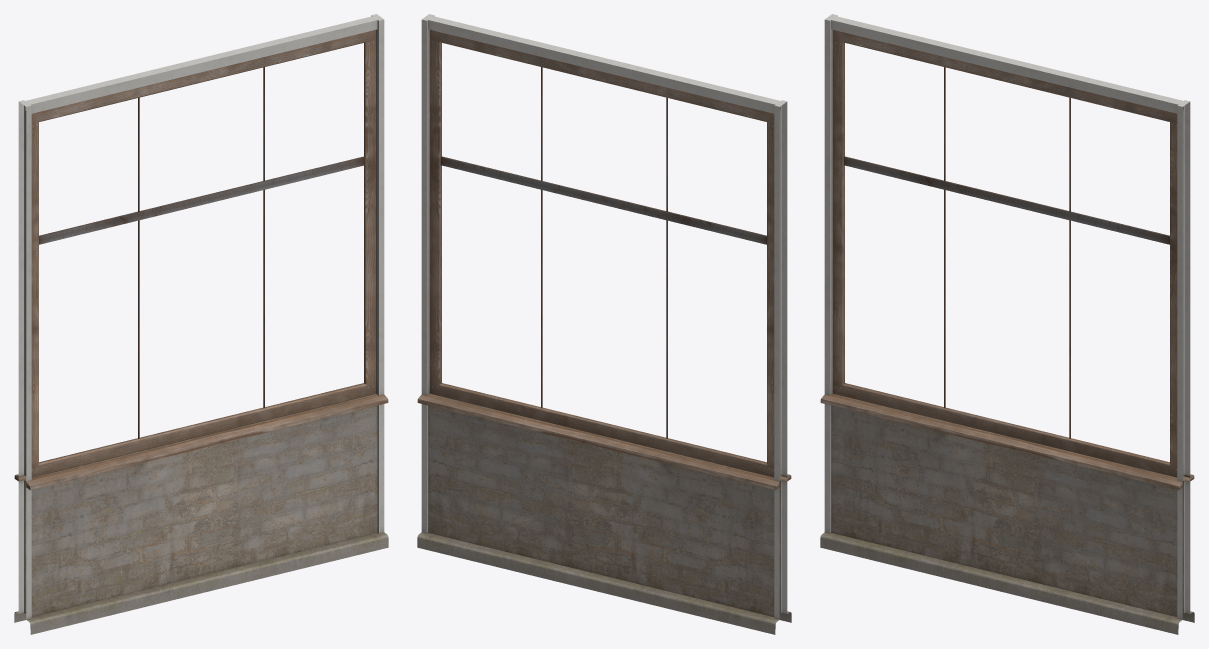
Rendered from Mesh_GardenhouseFrame.fbx.
3 renders of one model, left to right at view 1: azimuth 30°, elevation 25°; view 2: azimuth 150°, elevation 25°; view 3: azimuth 330°, elevation 25°, orthographic.
Parts seen in each view (by area): view 1: Mesh_GreenhouseFrame_LOD0; view 2: Mesh_GreenhouseFrame_LOD0; view 3: Mesh_GreenhouseFrame_LOD0.
Part boxes in pixels (x1,y1,x2,y2): Mesh_GreenhouseFrame_LOD0: (14, 14, 388, 634); Mesh_GreenhouseFrame_LOD0: (417, 14, 791, 634); Mesh_GreenhouseFrame_LOD0: (820, 14, 1194, 634).
Size of what is drawn, in the model's own units: 2 by 2.8 by 0.1592.
